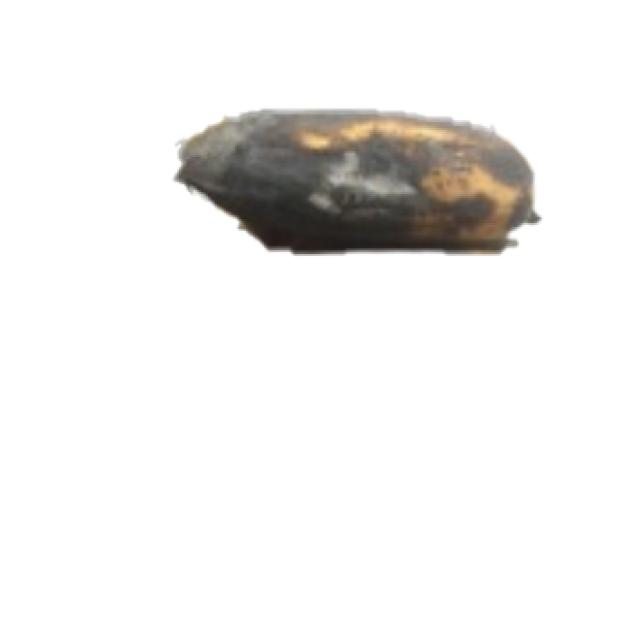rotten-banana: (172, 105, 540, 254)
